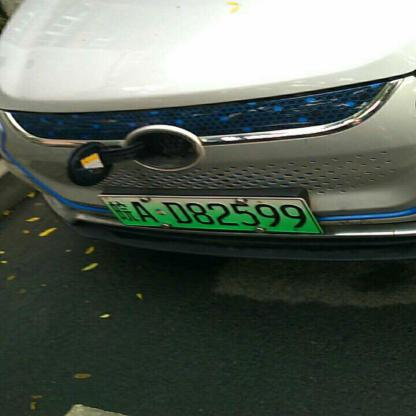lp: (100, 195, 322, 231)
